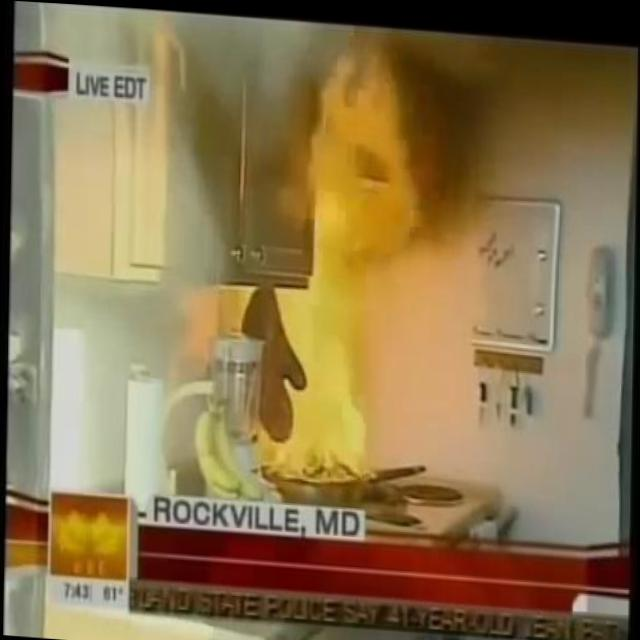fire: (274, 187, 369, 476)
